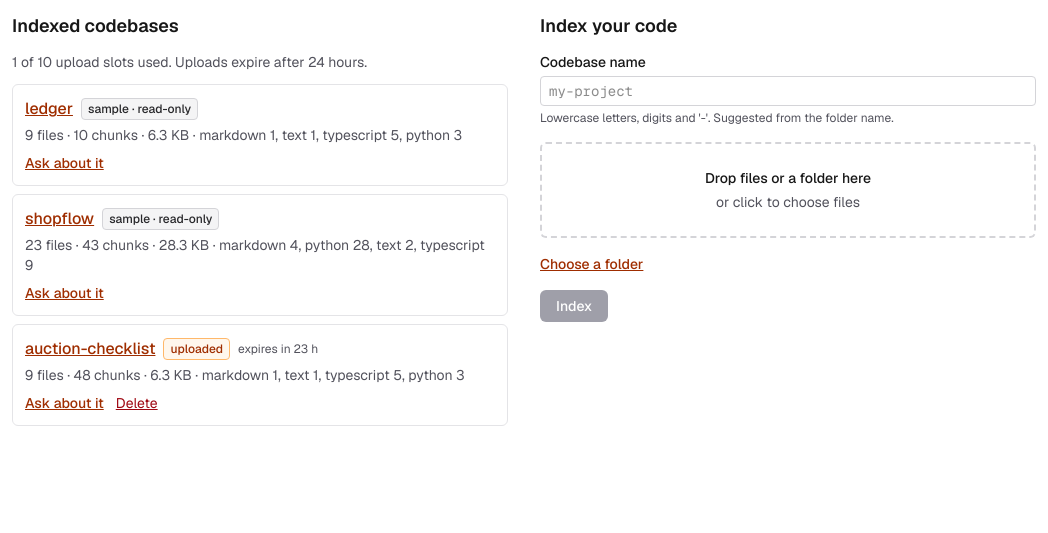
Test: Codebases page › shows a delete failure
Click the button "Delete". click: (137, 403)
box: 116,393 -> 158,413
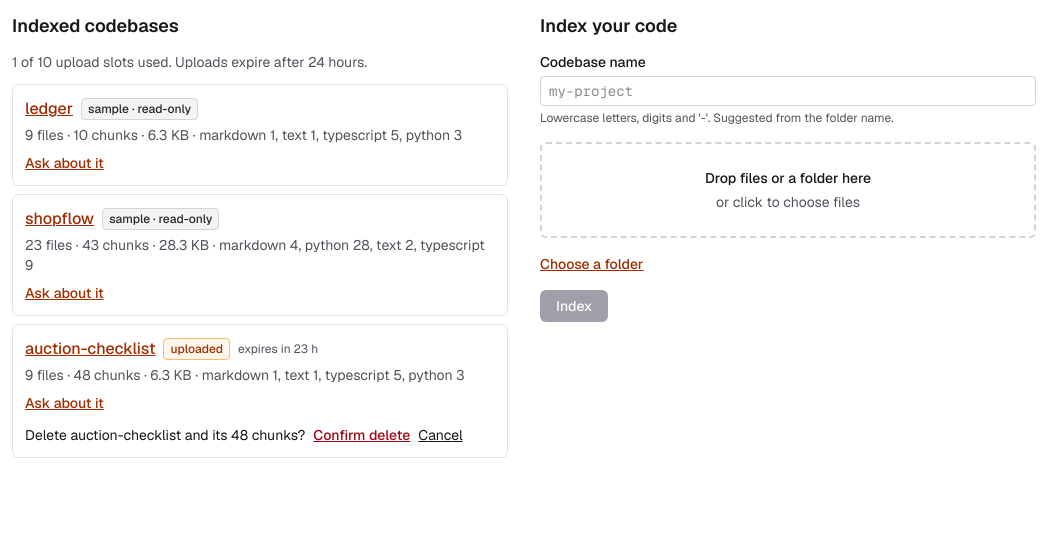
Click the button "Confirm delete". click: (362, 435)
box: 313,425 -> 410,445
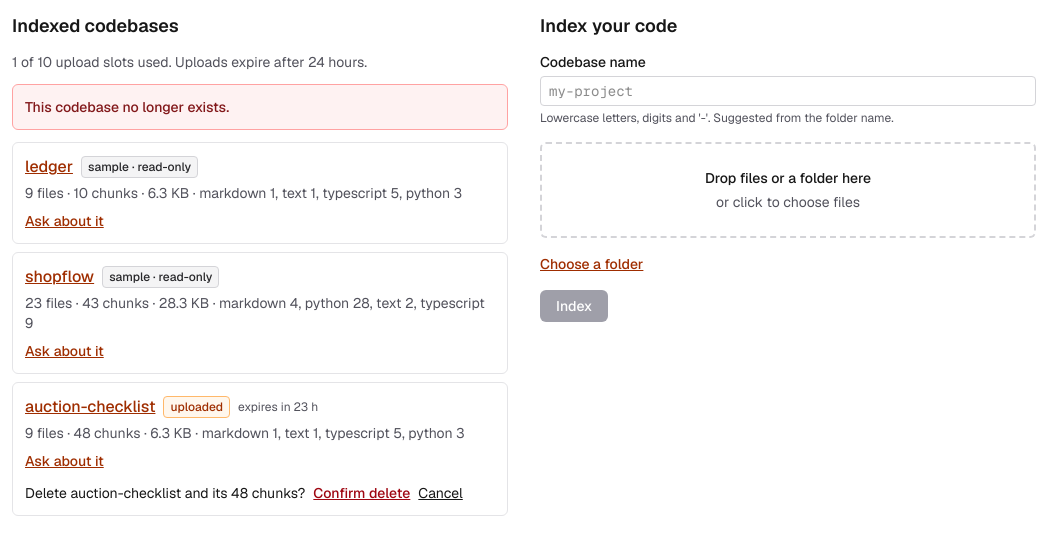
Check: the message shows "no longer exists", box 25,98 -> 229,116
